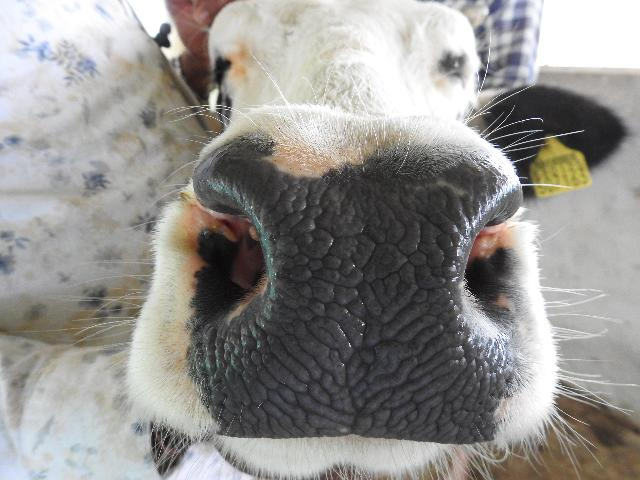Muzzle: (241, 174, 475, 432)
